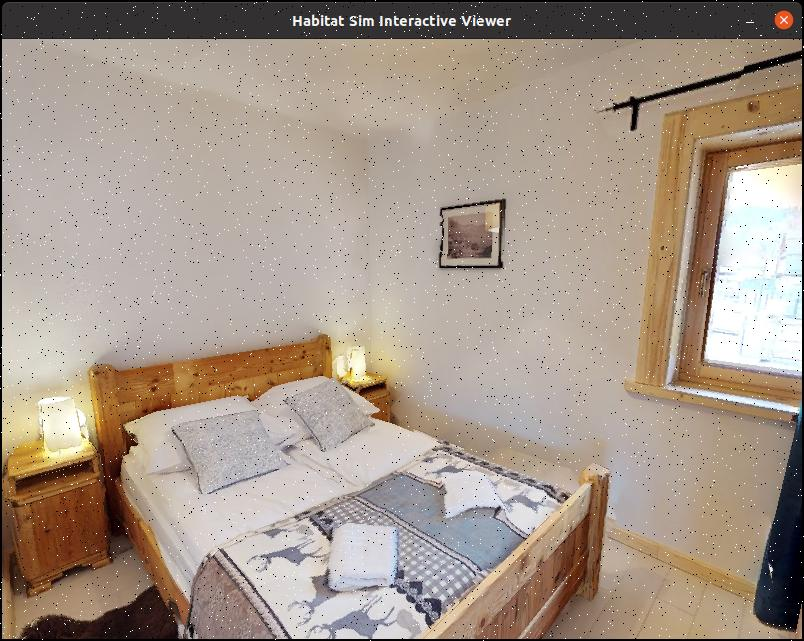bed: (73, 303, 614, 641)
